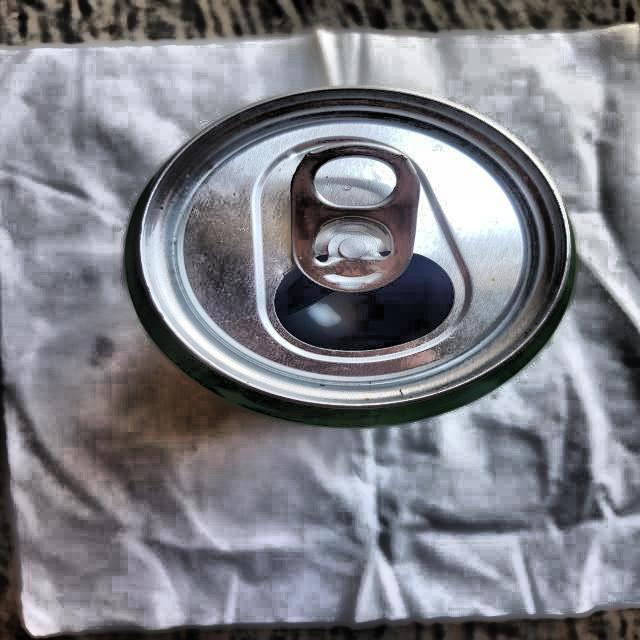metal: (126, 88, 576, 430)
